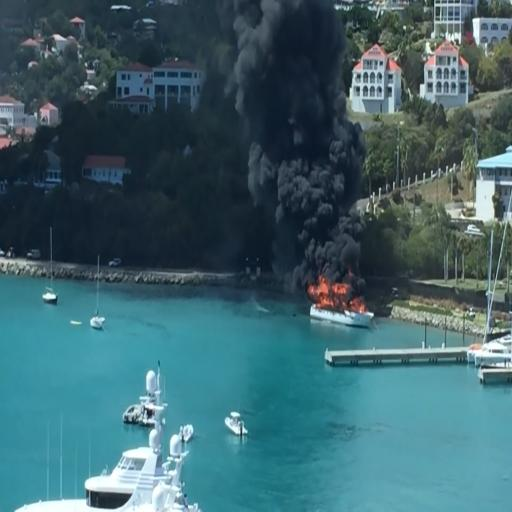smoke: (236, 133, 378, 242), (243, 8, 339, 137)
